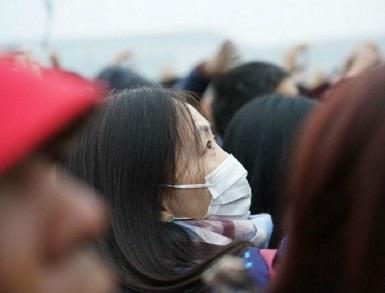OK: (151, 122, 255, 237)
